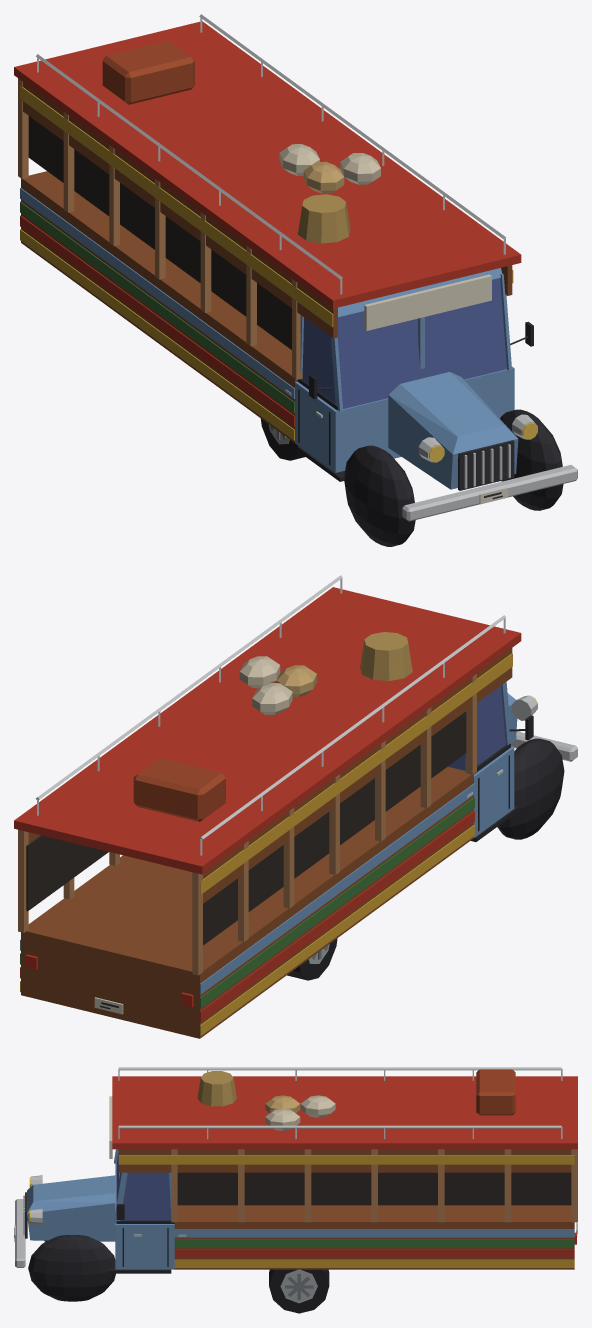
Rendered from pothong.glb.
The picture shows the model from 3 angles, top to bottom: view 1: azimuth 30°, elevation 25°; view 2: azimuth 150°, elevation 25°; view 3: azimuth 270°, elevation 25°; orthographic projection. The views are drawn at different scales.
Visible parts, largest first — view 1: body, wheel1; view 2: body, wheel1; view 3: body, wheel1.
Boxes of the visible parts, bbox=[...] form: body: bbox=[14, 14, 577, 546]; wheel1: bbox=[260, 418, 305, 460]; body: bbox=[14, 575, 577, 1038]; wheel1: bbox=[288, 938, 337, 980]; body: bbox=[14, 1067, 577, 1301]; wheel1: bbox=[269, 1269, 329, 1313].
Size of the model in its own units: 2.82 by 3.71 by 8.6.
